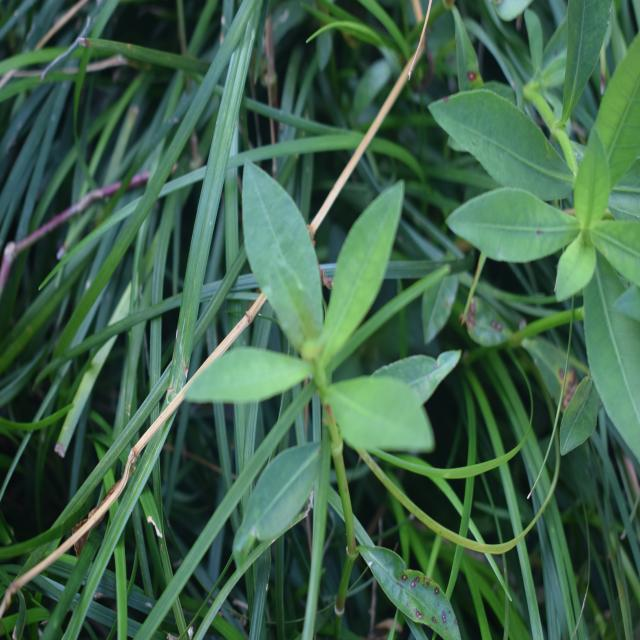Alligatorweed: (208, 153, 434, 490)
